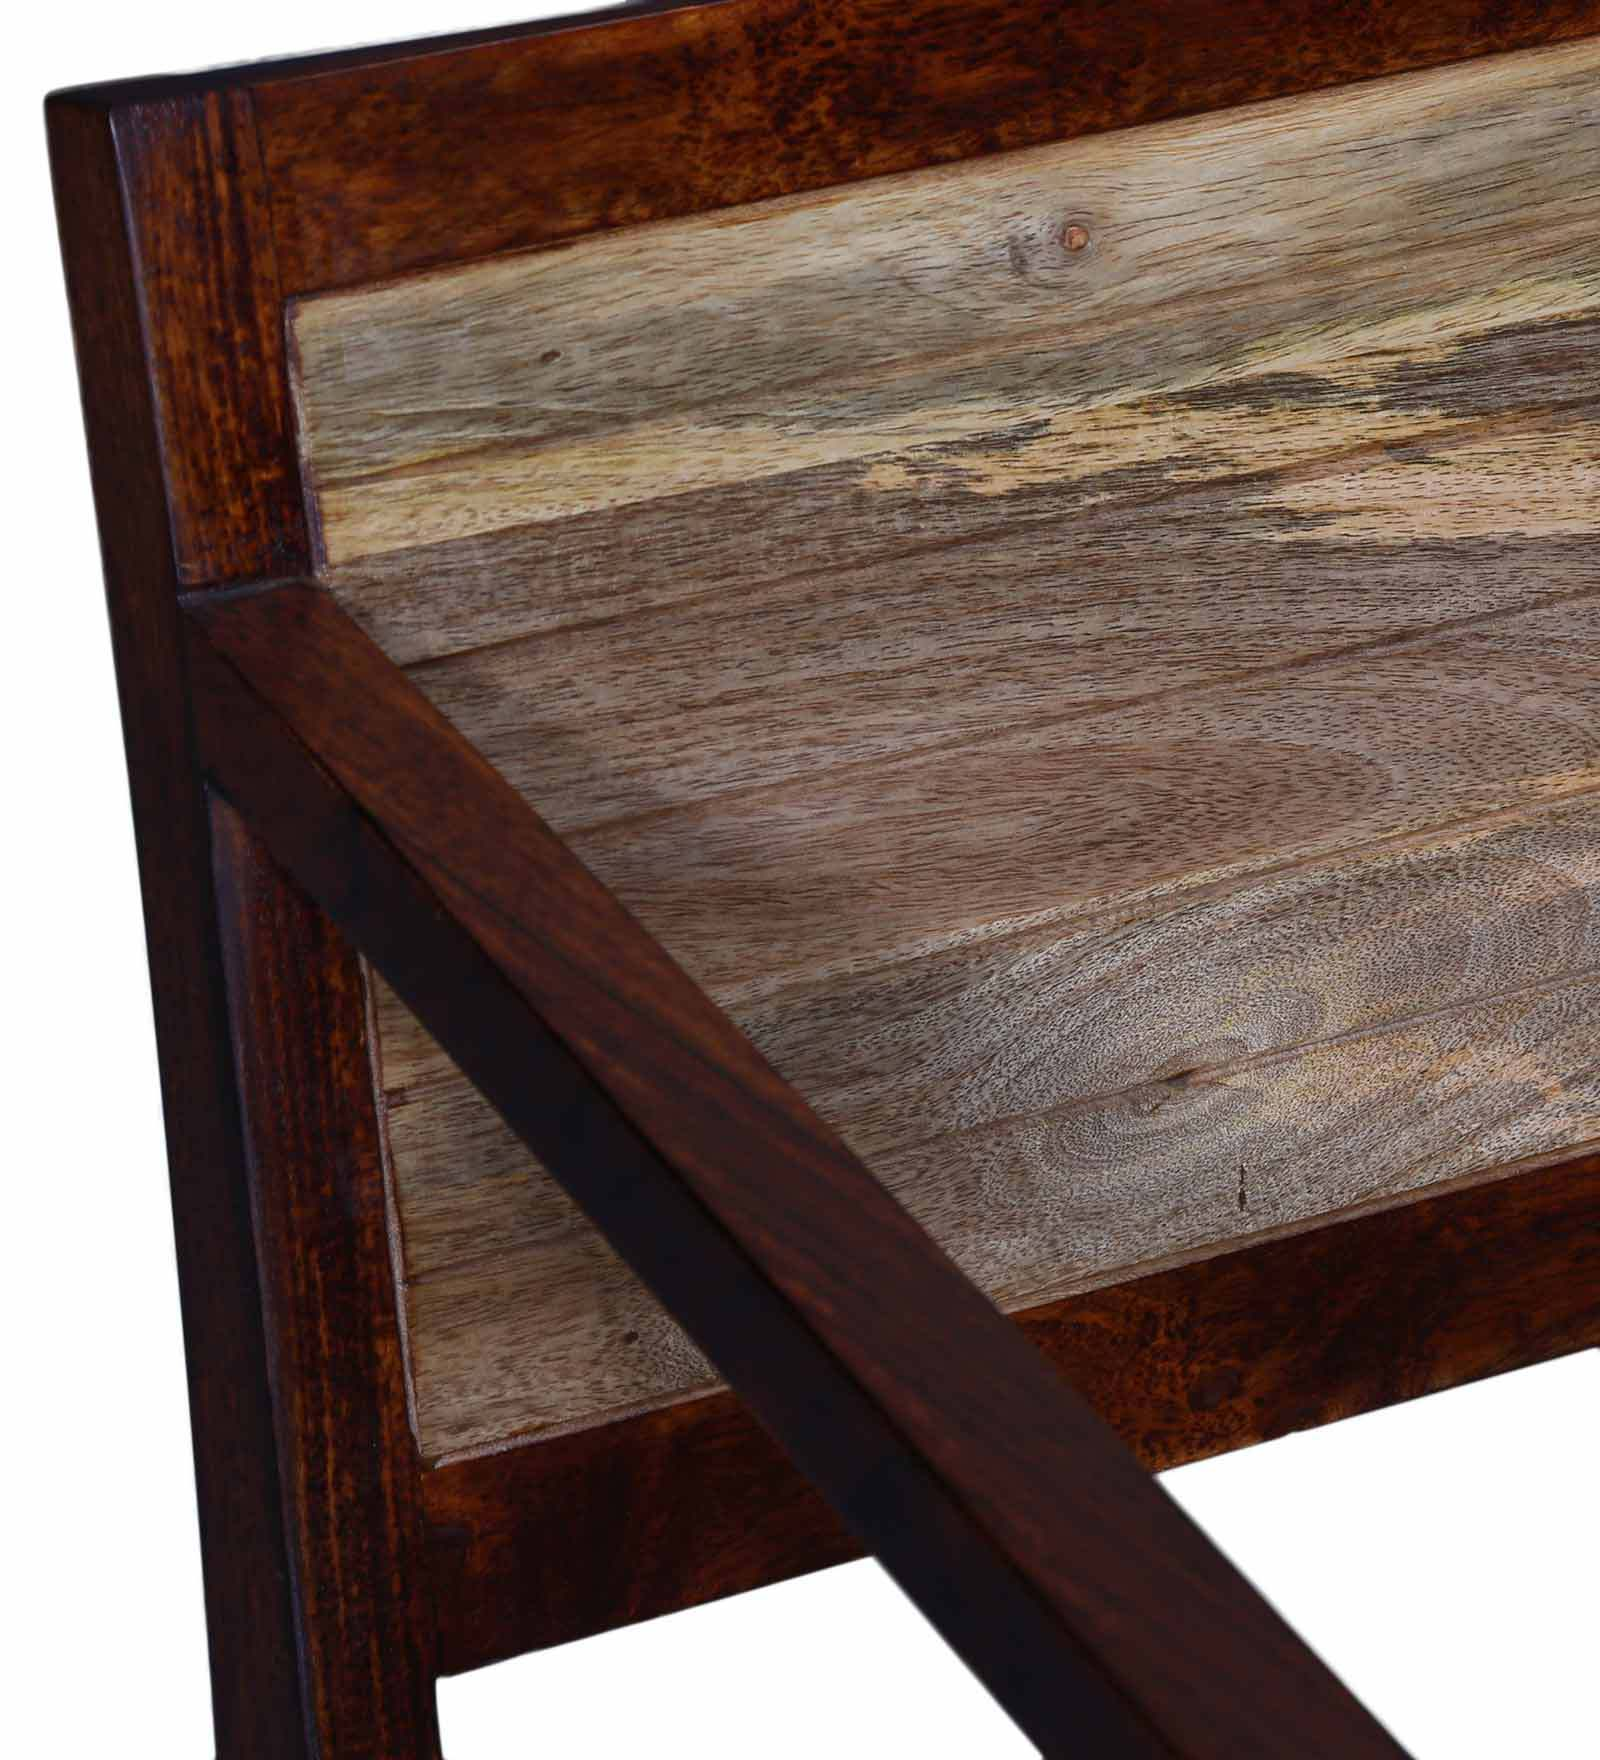Anitz Arm Chair in Dual Tone Finish by Woodsworth: (11, 23, 1595, 1760)
